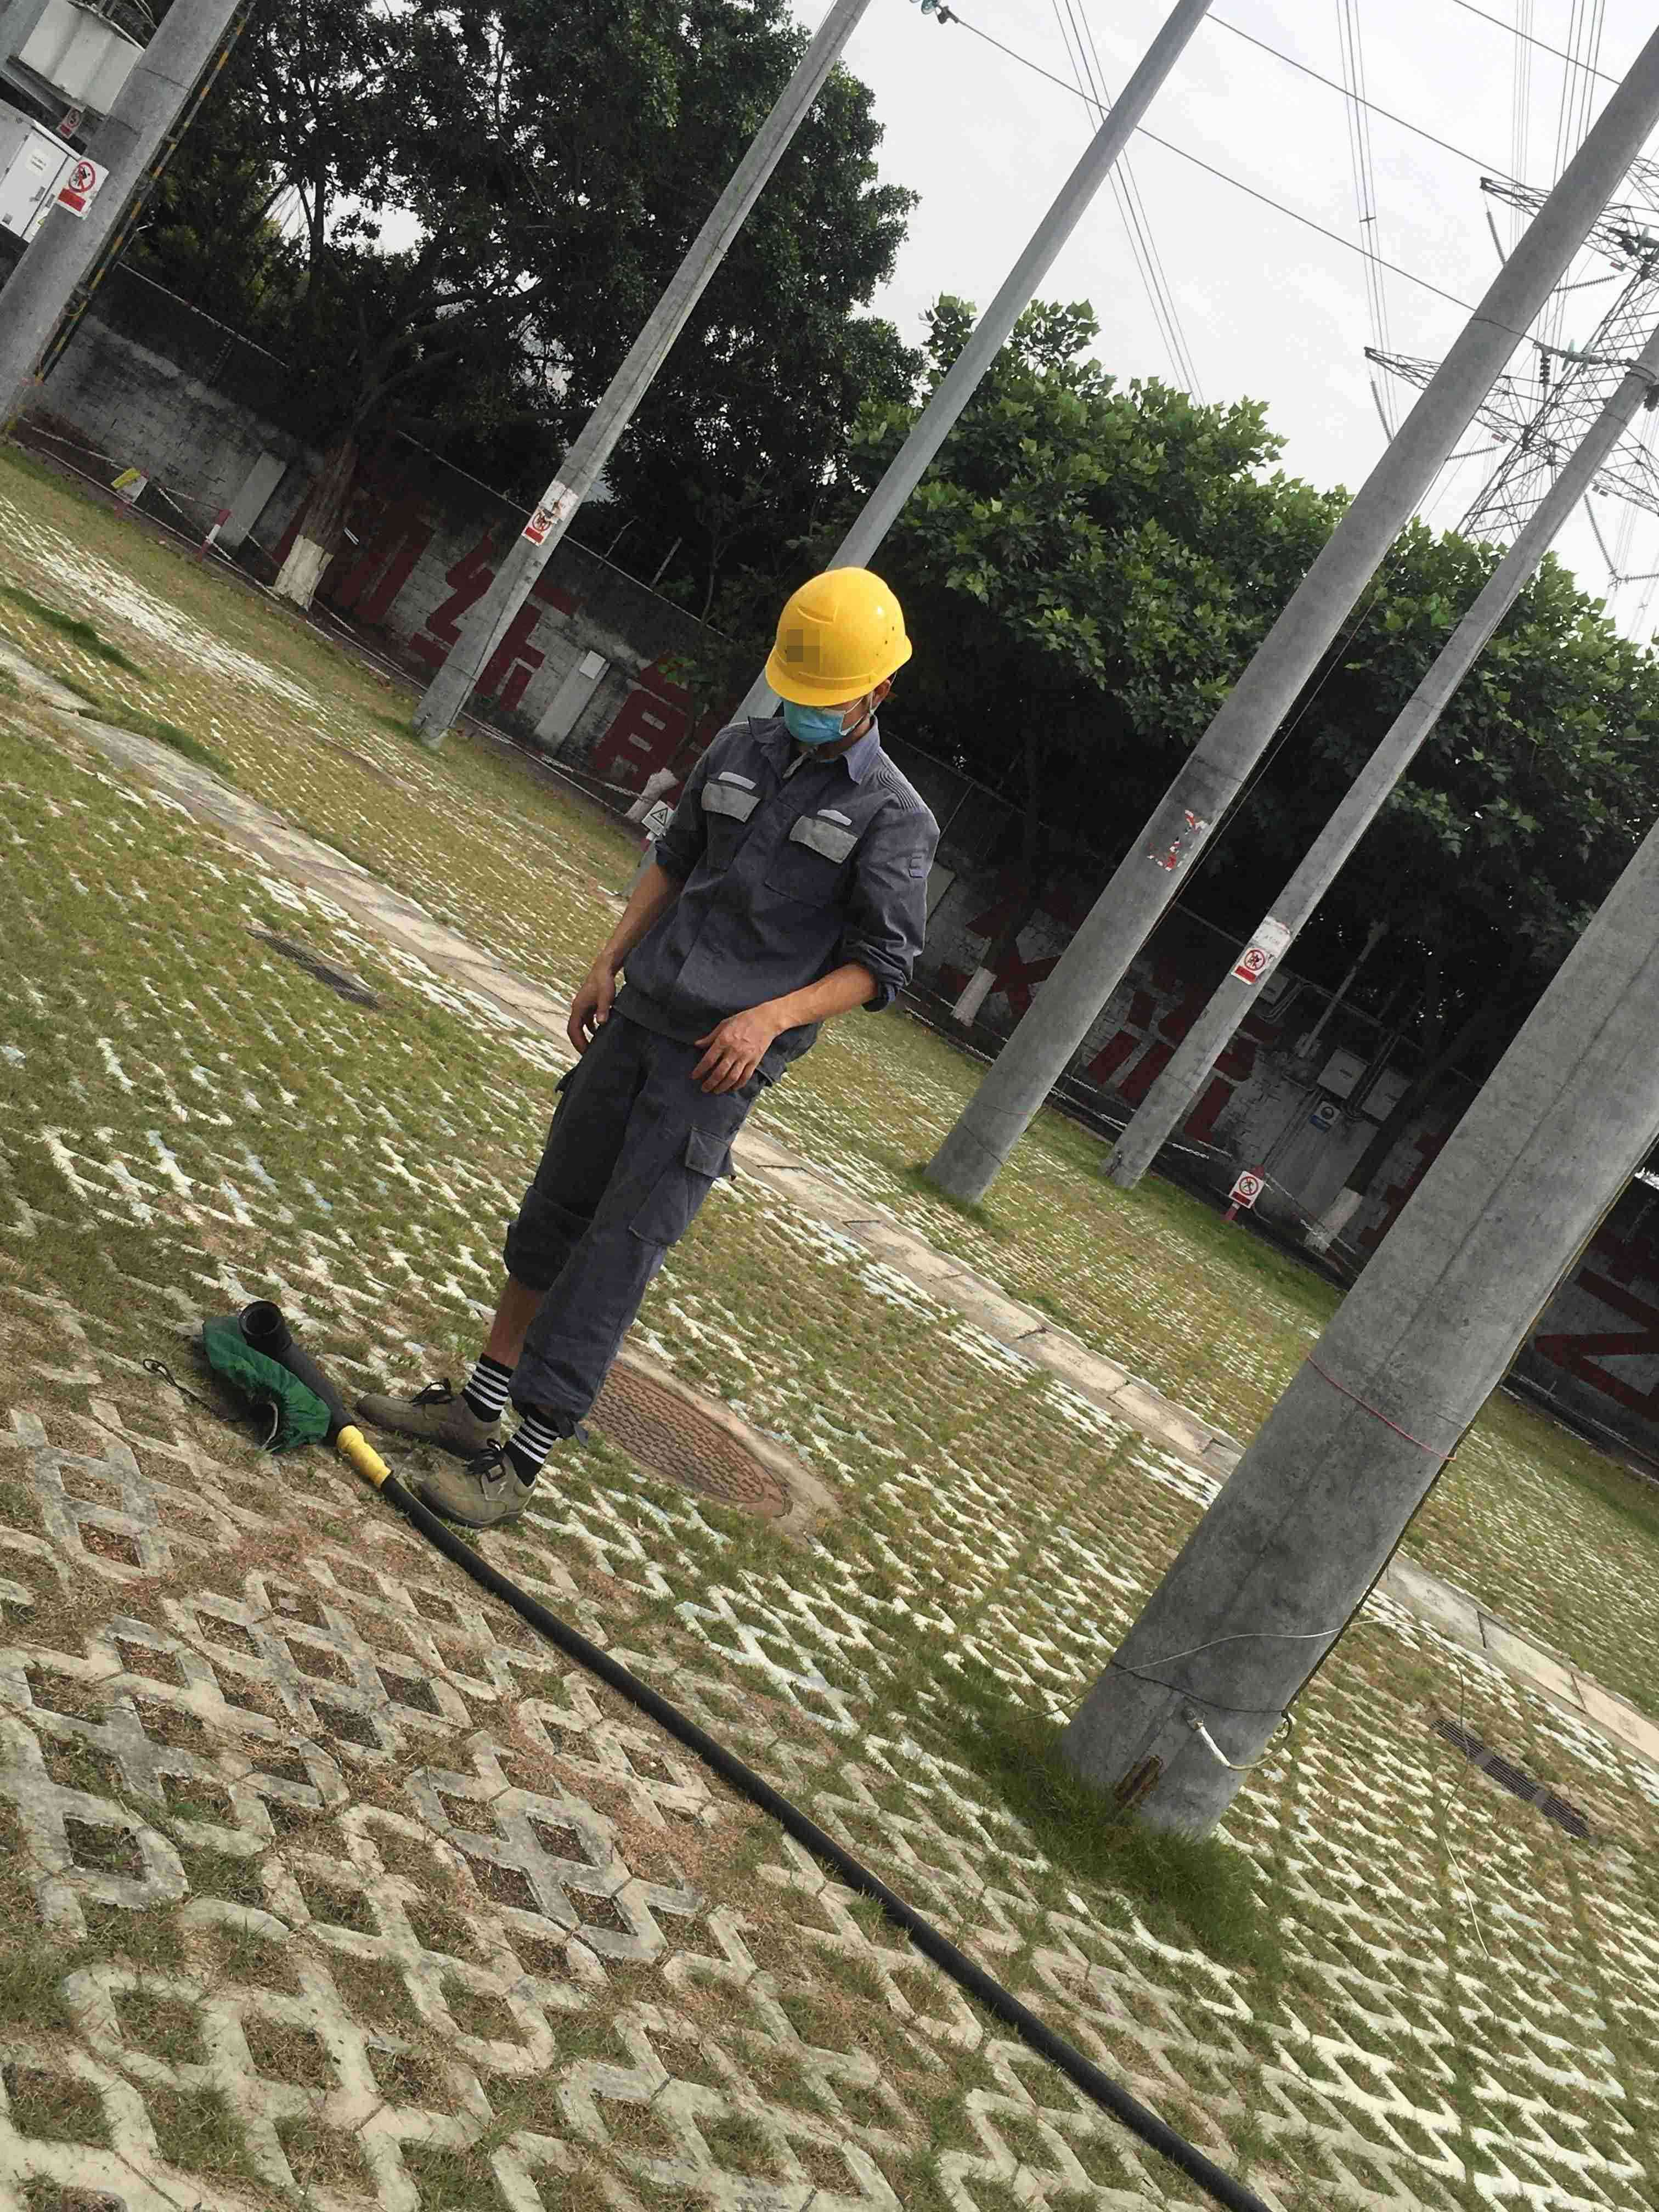downsuit: (502, 1008, 772, 1453)
upsuit: (613, 716, 941, 1085)
wrongbottom: (469, 1186, 598, 1399)
wrongtop: (594, 826, 699, 998), (755, 930, 917, 1040)
